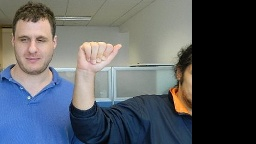Pugno: (73, 38, 123, 73)
